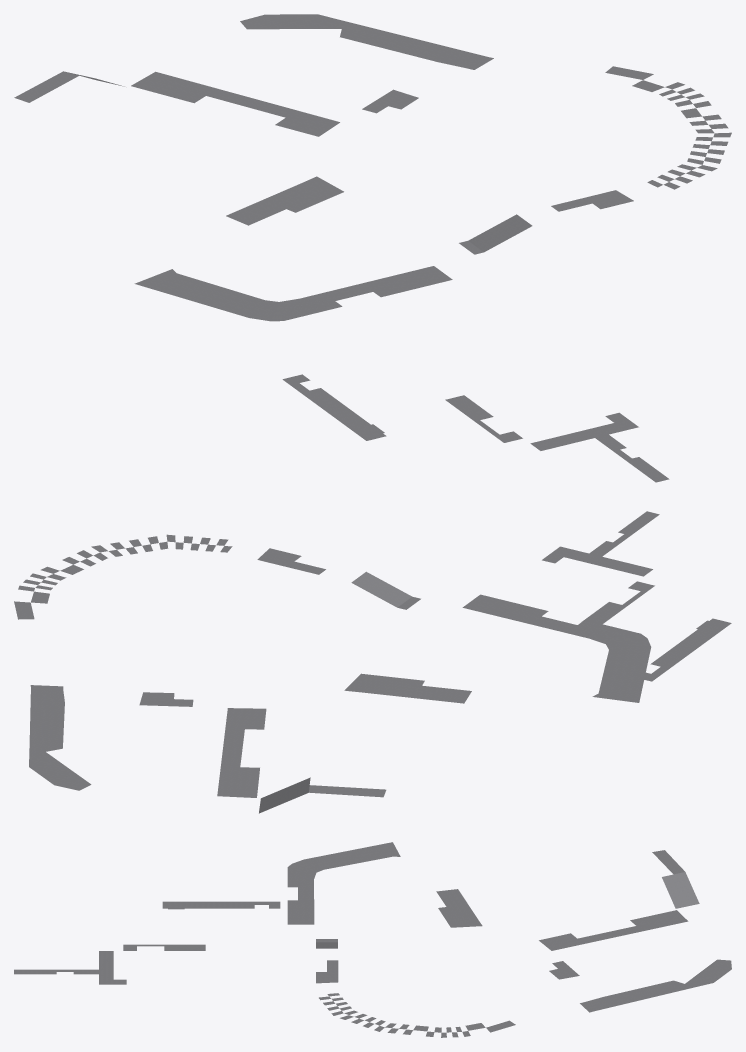
Rendered from kd_stage_1364a3_11_31_bounded.glb.
The picture shows the model from 3 angles, top to bottom: view 1: azimuth 30°, elevation 25°; view 2: azimuth 150°, elevation 25°; view 3: azimuth 270°, elevation 25°; orthographic projection. The views are drawn at different scales.
Visible parts, largest first — view 1: kd_stage_1364a3_11_31_bounded; view 2: kd_stage_1364a3_11_31_bounded; view 3: kd_stage_1364a3_11_31_bounded.
Boxes of the visible parts, left/top/right/bottom form: kd_stage_1364a3_11_31_bounded: left=14, top=14, right=731, bottom=482; kd_stage_1364a3_11_31_bounded: left=14, top=511, right=731, bottom=813; kd_stage_1364a3_11_31_bounded: left=14, top=842, right=731, bottom=1037.
Bounding box in the file's own units: 103 × 13.94 × 152.
1 material, 1 textured.
